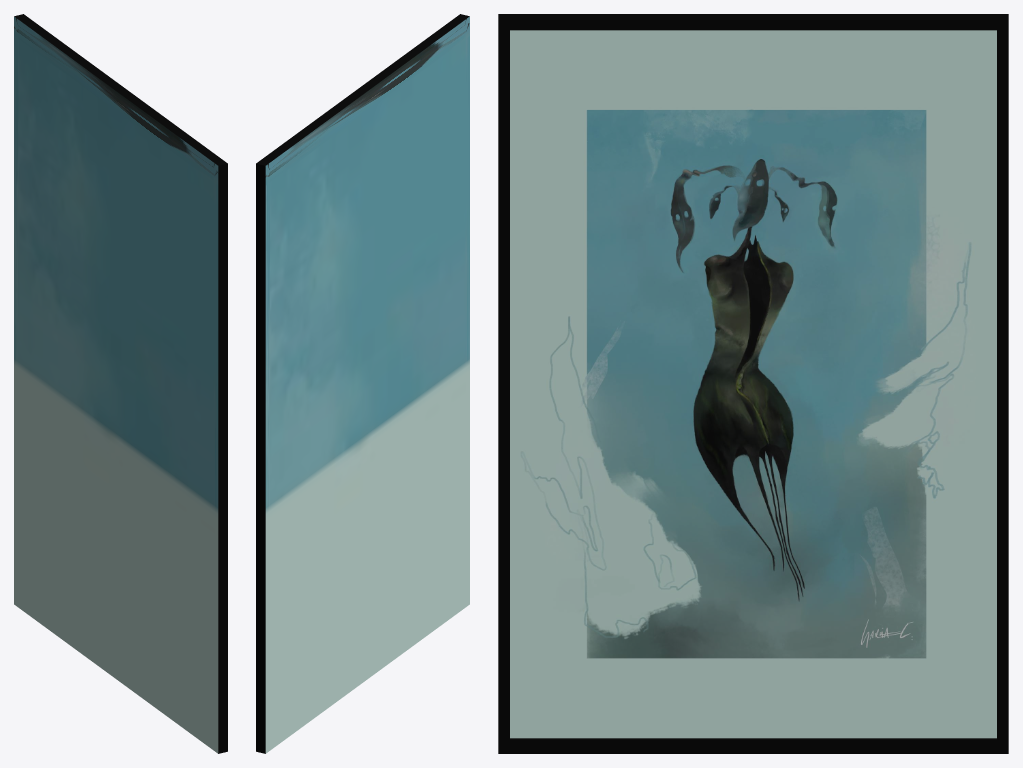
File: Painting.glb
3 renders of one model, left to right at view 1: azimuth 30°, elevation 25°; view 2: azimuth 150°, elevation 25°; view 3: azimuth 270°, elevation 25°, orthographic. The views are drawn at different scales.
Visible parts, largest first — view 1: schilderij; view 2: schilderij; view 3: schilderij.
Boxes of the visible parts, x1,y1,x2,y2 form: schilderij: (14,14,227,753); schilderij: (256,14,469,753); schilderij: (498,14,1008,753).
Size of the model in its own units: 0.0301 by 1.76 by 1.11.
2 materials, 1 textured.
